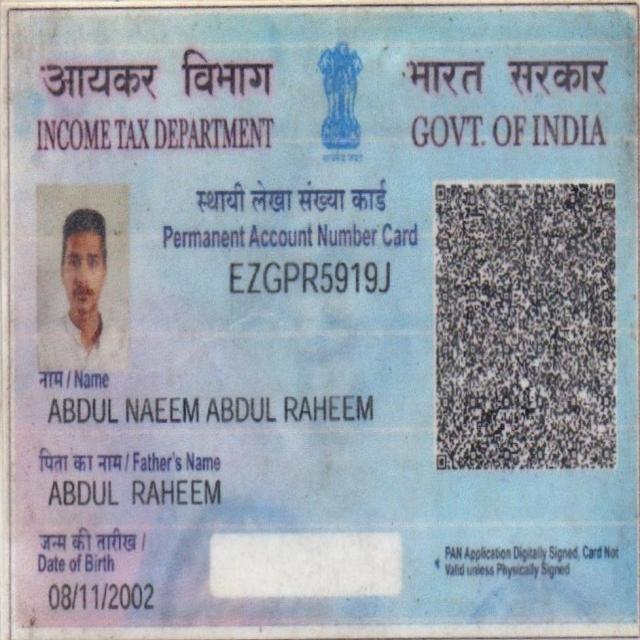pan_card: (9, 13, 638, 630)
